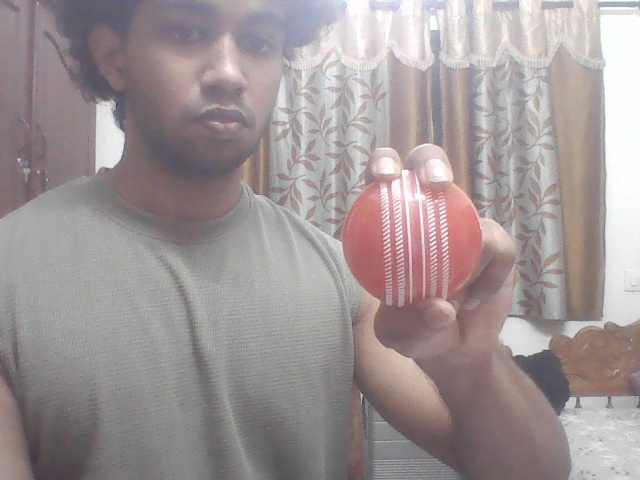cricket_ball: (338, 175, 483, 300)
